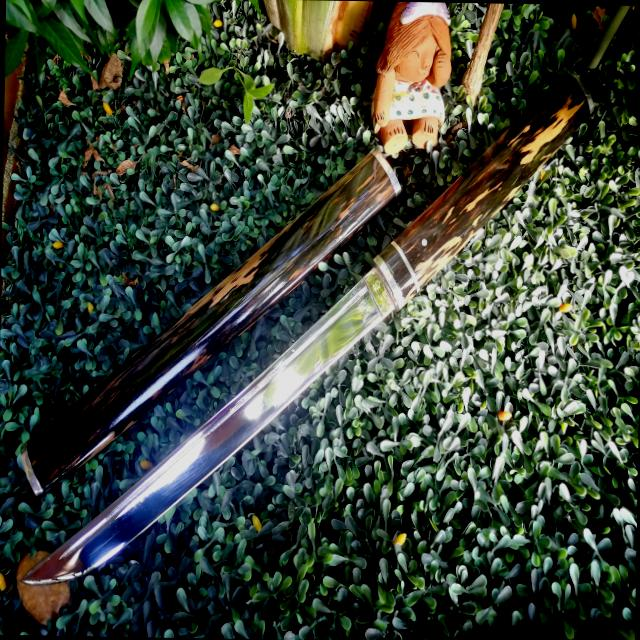short sword: (0, 50, 627, 616)
